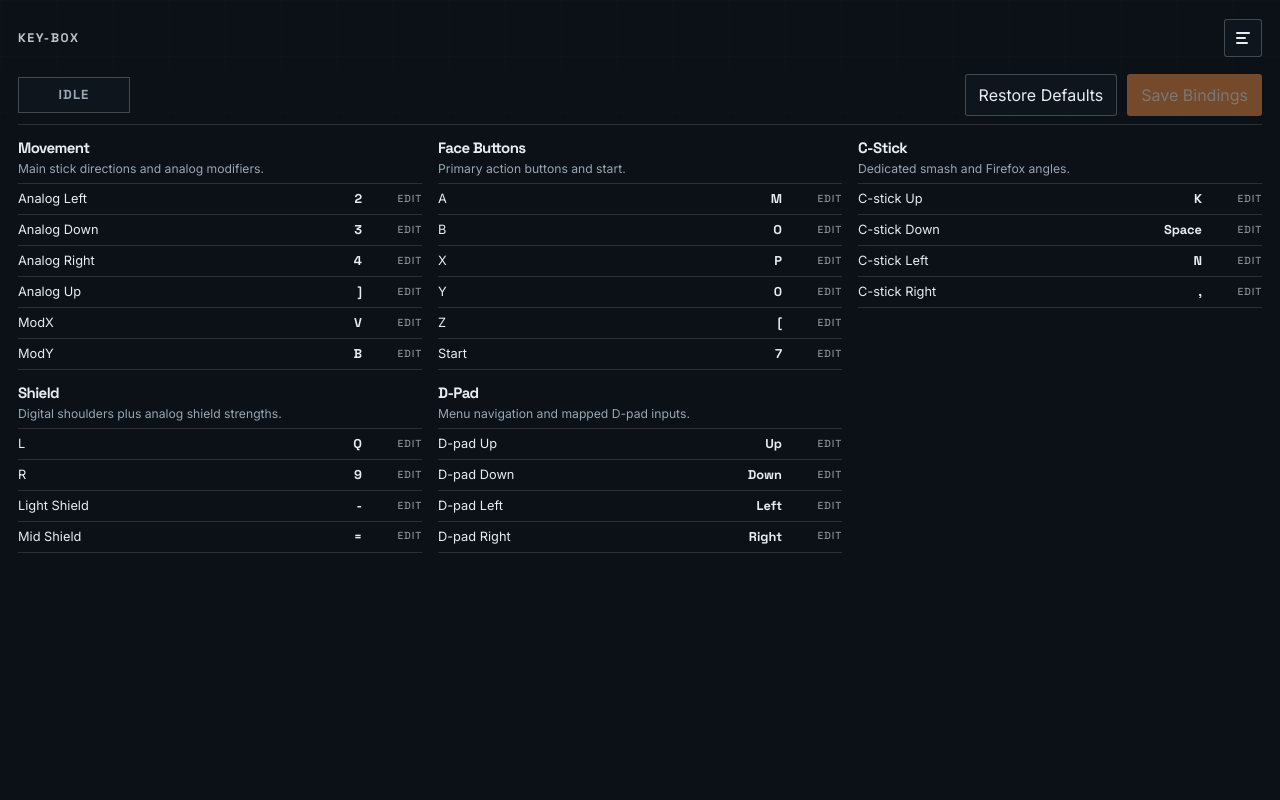
Test: App › shows updater errors in the settings updates section
The width and height of the screenshot is (1280, 800).
Step 1. Click the button named "Open settings" → (1243, 38), box [1224,19,1262,57]
(page scrolled)
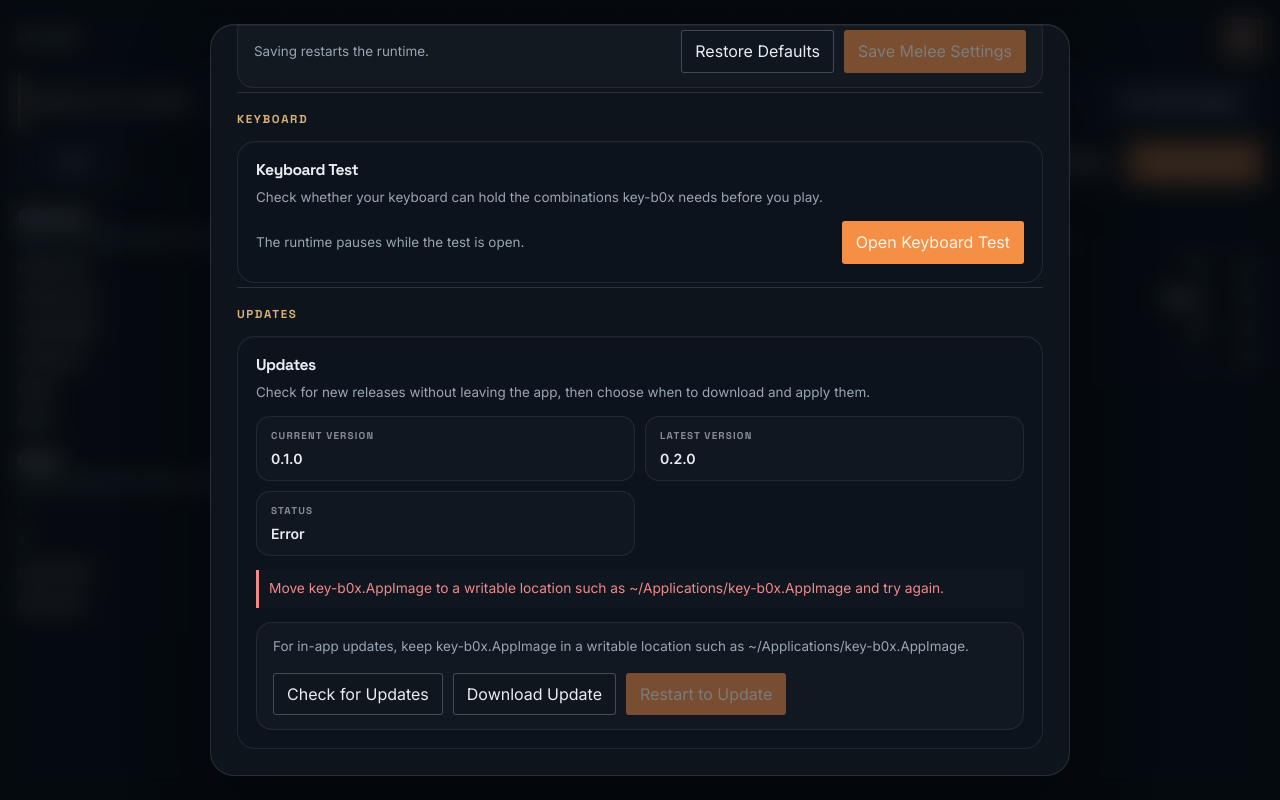
expect the text "Move key-b0x.AppImage to a writable location such as ~/Applications/key-b0x.AppImage and try again." is shown: met, box [269,580,944,596]
expect the button "Download Update" is shown: met, box [453,672,616,715]
